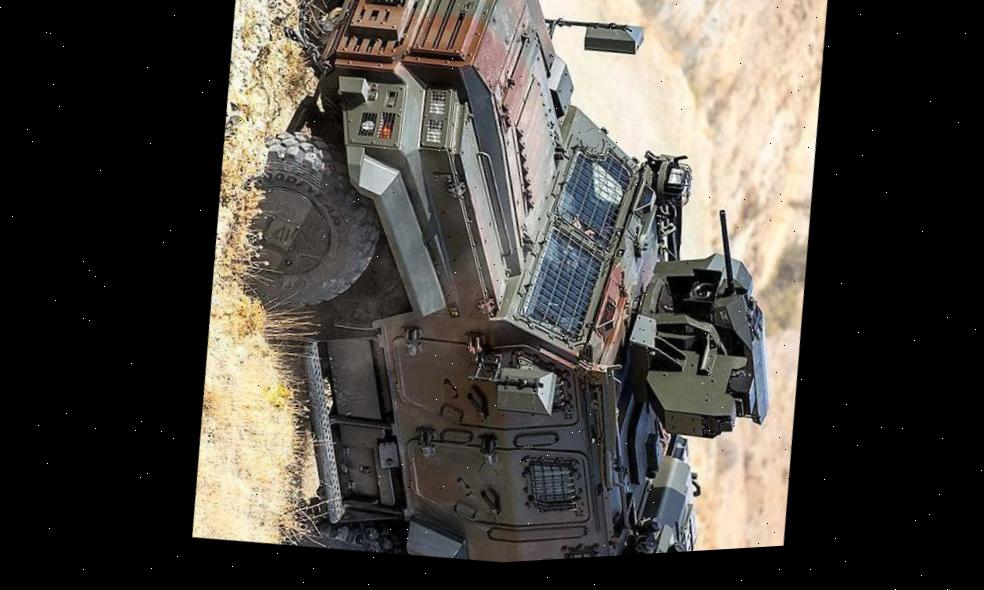armored_car: (184, 0, 836, 579)
